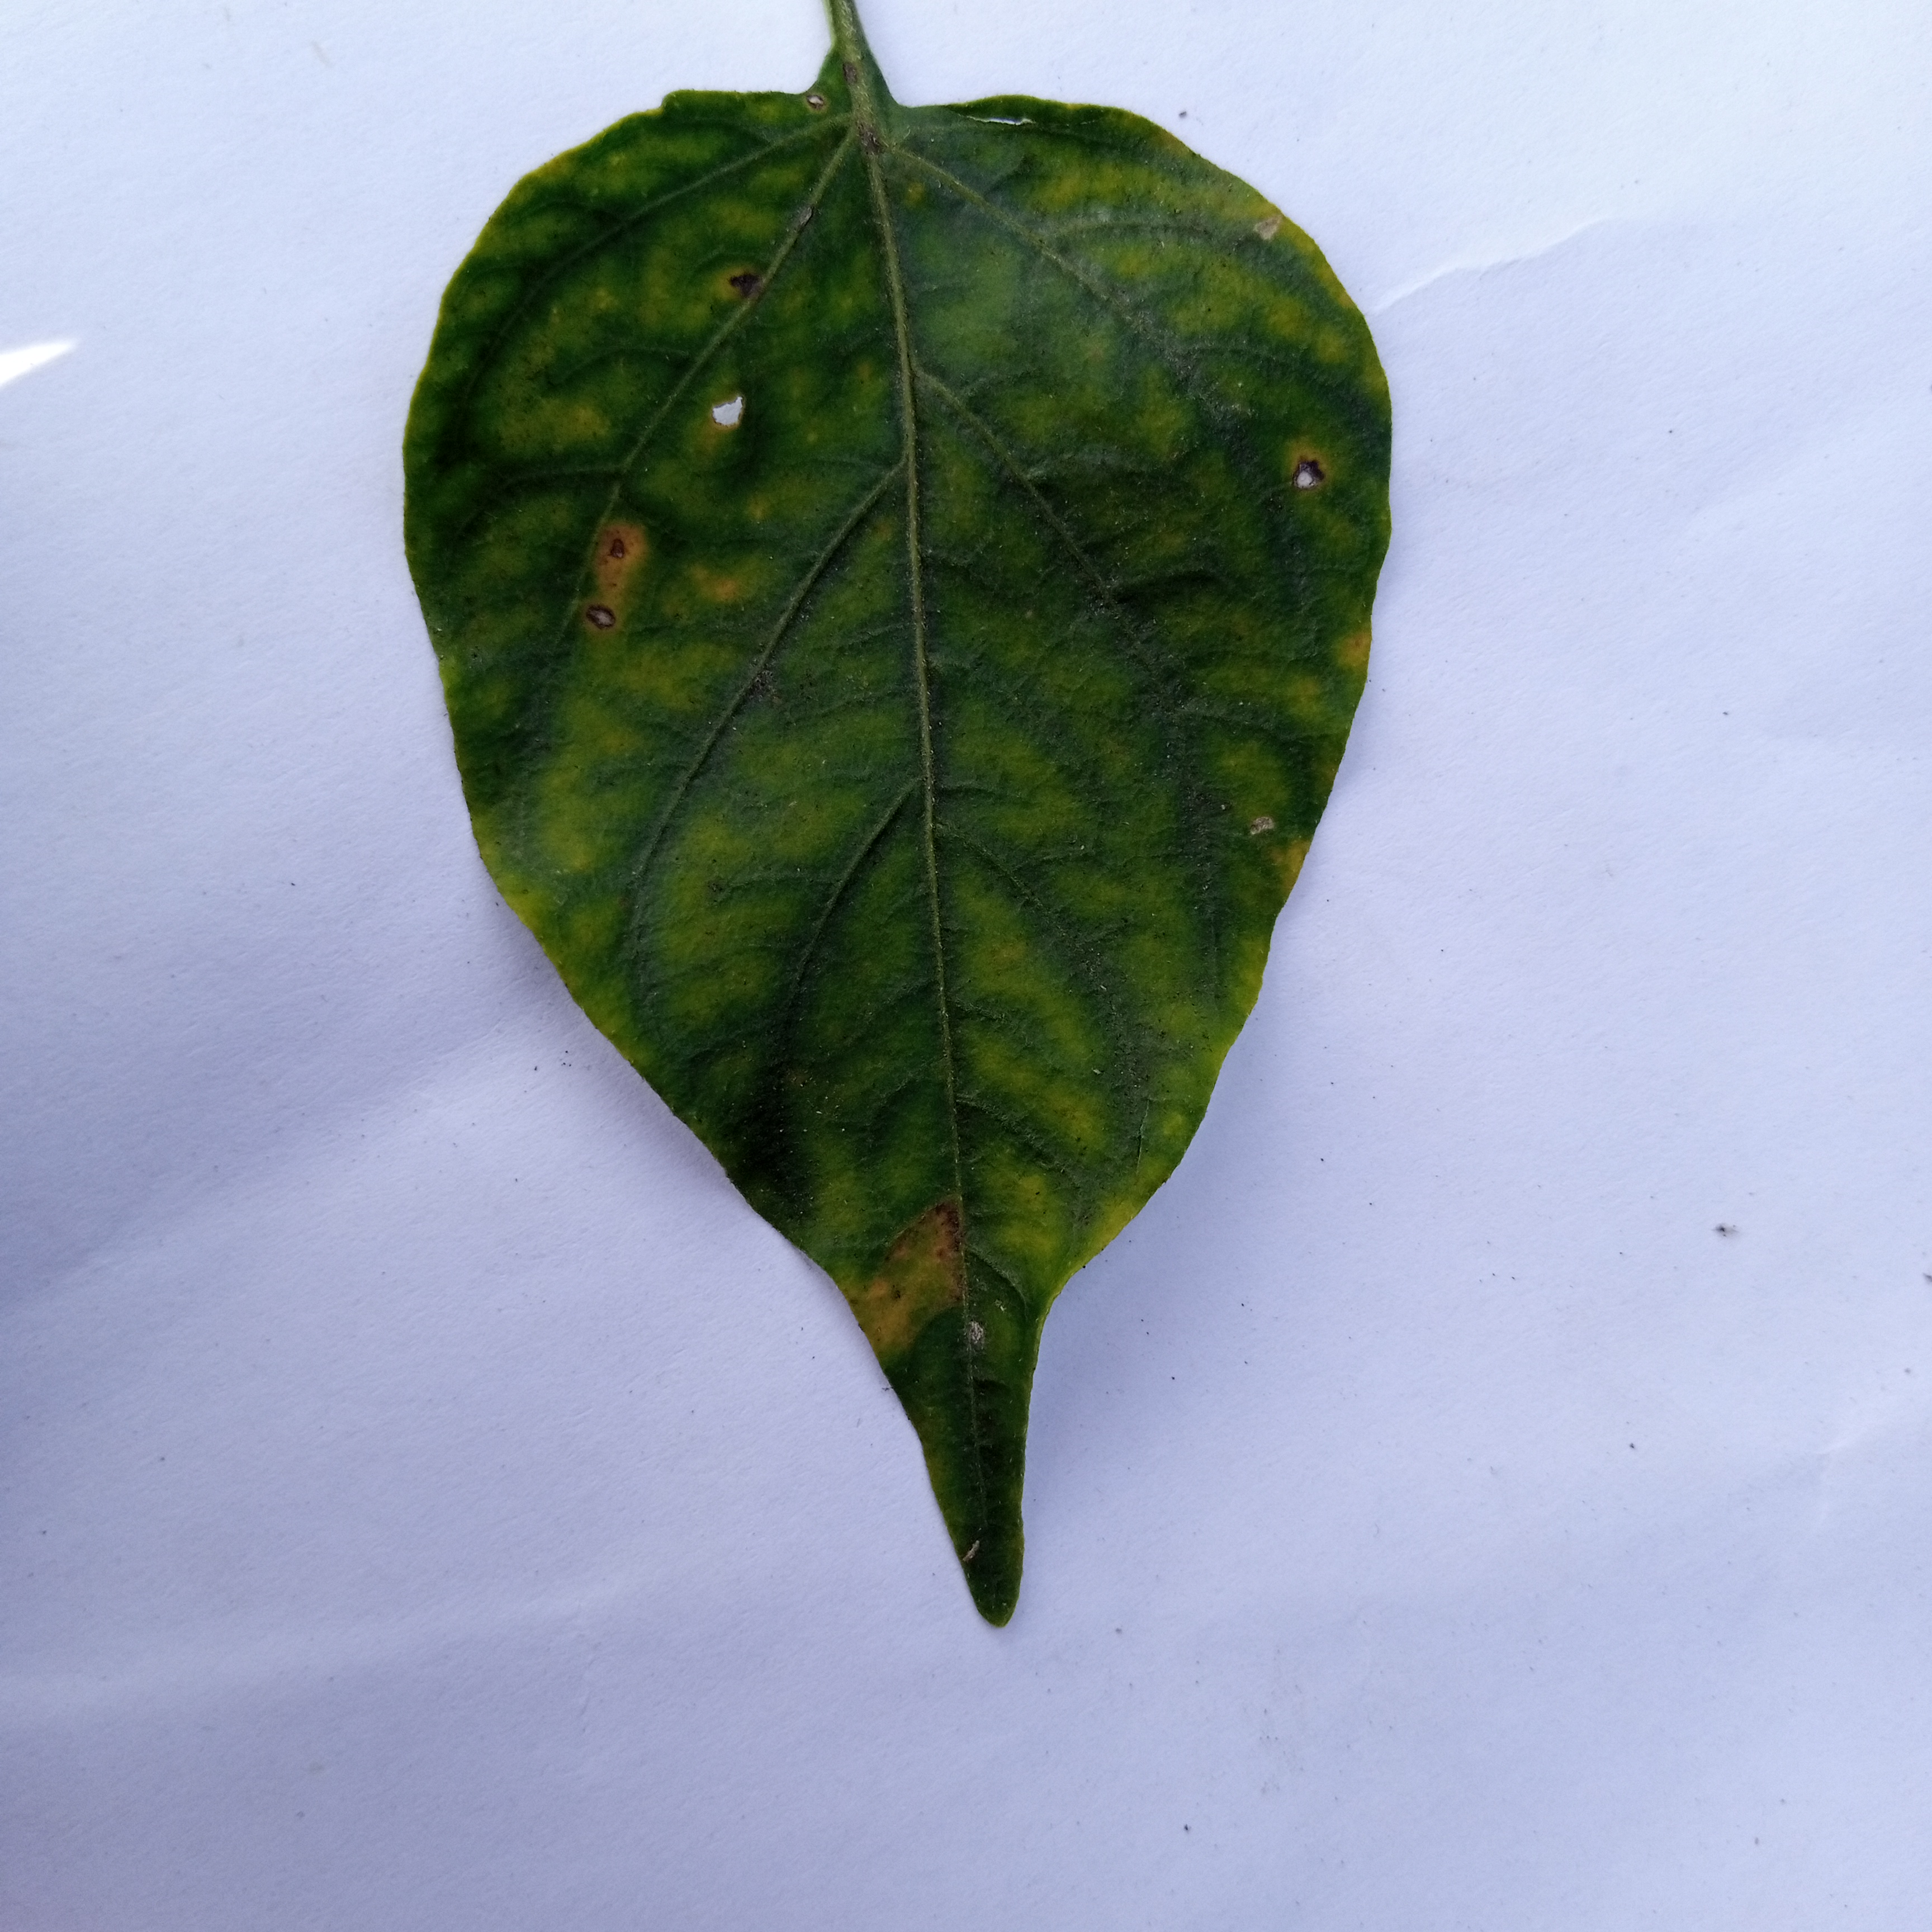Leaf: (341, 58, 1431, 1654)
